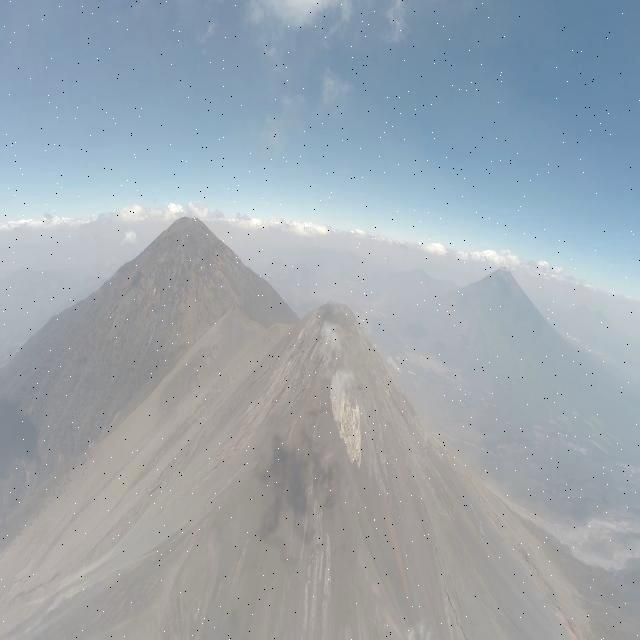Summit: (262, 294, 420, 480)
